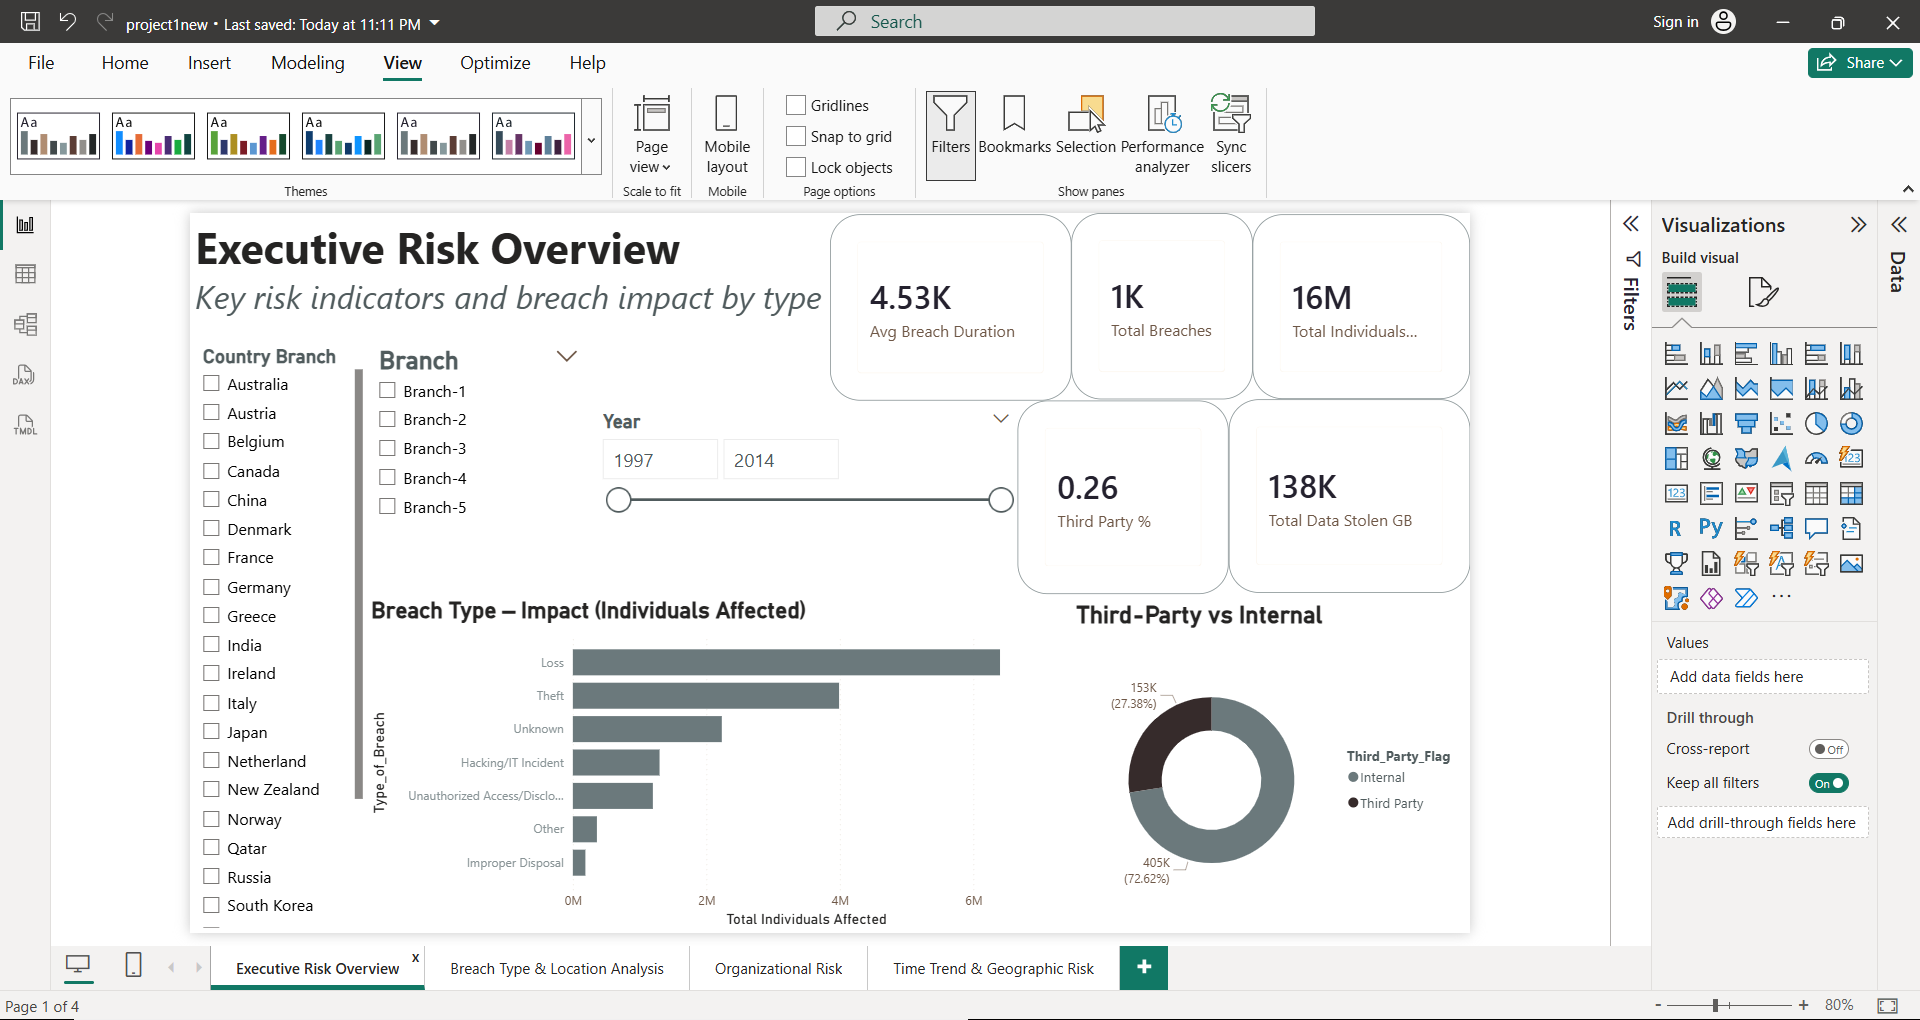

Layout of this report page (visuals, bound fields, positions):
{"tool":"powerbi","page":{"name":"Executive Risk Overview","canvas":[1280,720],"ordinal":0},"visuals":[{"type":"textbox","box":[0,0,881.1,127.8],"z":0},{"type":"slicer","fields":{"Values":["Final Transformed Data.Year"]},"box":[400,192,432,192],"z":1000},{"type":"slicer","fields":{"Values":["Final Transformed Data.Branch"]},"box":[176,128,224,256],"z":2000},{"type":"slicer","fields":{"Values":["Final Transformed Data.CountryBranch"]},"box":[0,127.5,177.5,592.5],"z":3000},{"type":"cardVisual","fields":{"Data":["Dashboard Measures.Total Breaches"]},"box":[881.2,0,181.2,186.2],"z":4000},{"type":"cardVisual","fields":{"Data":["Dashboard Measures.Total Individuals Affected"]},"box":[1062.5,1.2,217.5,185],"z":5000},{"type":"cardVisual","fields":{"Data":["Dashboard Measures.Total Data Stolen GB"]},"box":[1038.8,186.2,241.2,193.8],"z":6000},{"type":"cardVisual","fields":{"Data":["Dashboard Measures.Avg Breach Duration"]},"box":[640,1.2,241.2,186.2],"z":7000},{"type":"cardVisual","fields":{"Data":["Dashboard Measures.Third Party %"]},"box":[827.5,187.5,211.2,193.8],"z":8000},{"type":"clusteredBarChart","title":"Breach Type – Impact (Individuals Affected)","fields":{"Category":["Final Transformed Data.Type_of_Breach"],"Y":["Dashboard Measures.Total Individuals Affected"]},"box":[176,384,688,336],"z":9000},{"type":"donutChart","title":"Third-Party vs Internal","fields":{"Category":["Final Transformed Data.Third_Party_Flag"],"Y":["Sum(Final Transformed Data.Number)"]},"box":[881.2,387.5,398.8,332.5],"z":10000}]}

Visuals, with their boxes on the page's 1280x720 design canvas (x1, y1, x2, y2). These are canvas units, not pixel positions in the 1920x1020 screenshot, which may show the page scaled, cropped or inside an application window:
textbox: 0,0,881,128
slicer - Final Transformed Data.Year: 400,192,832,384
slicer - Final Transformed Data.Branch: 176,128,400,384
slicer - Final Transformed Data.CountryBranch: 0,128,178,720
cardVisual - Dashboard Measures.Total Breaches: 881,0,1062,186
cardVisual - Dashboard Measures.Total Individuals Affected: 1062,1,1280,186
cardVisual - Dashboard Measures.Total Data Stolen GB: 1039,186,1280,380
cardVisual - Dashboard Measures.Avg Breach Duration: 640,1,881,187
cardVisual - Dashboard Measures.Third Party %: 828,188,1039,381
"Breach Type – Impact (Individuals Affected)" clusteredBarChart: 176,384,864,720
"Third-Party vs Internal" donutChart: 881,388,1280,720
